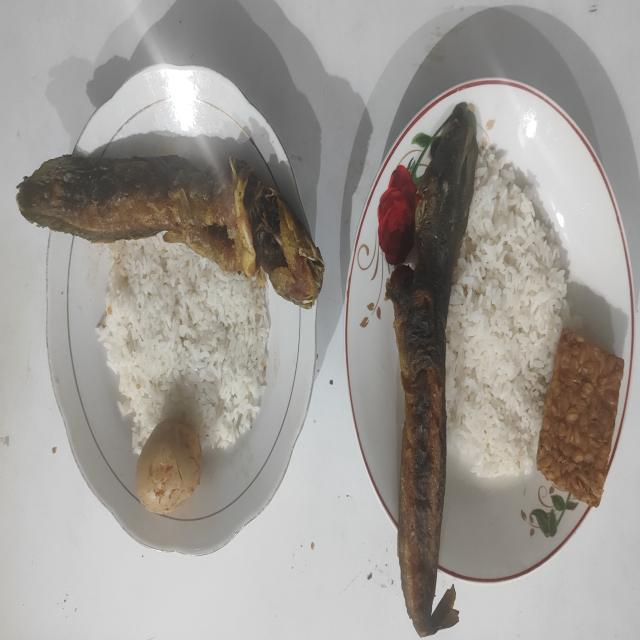nasi_putih: (446, 145, 567, 478), (96, 234, 270, 456)
tempe_goreng: (537, 330, 623, 508)
